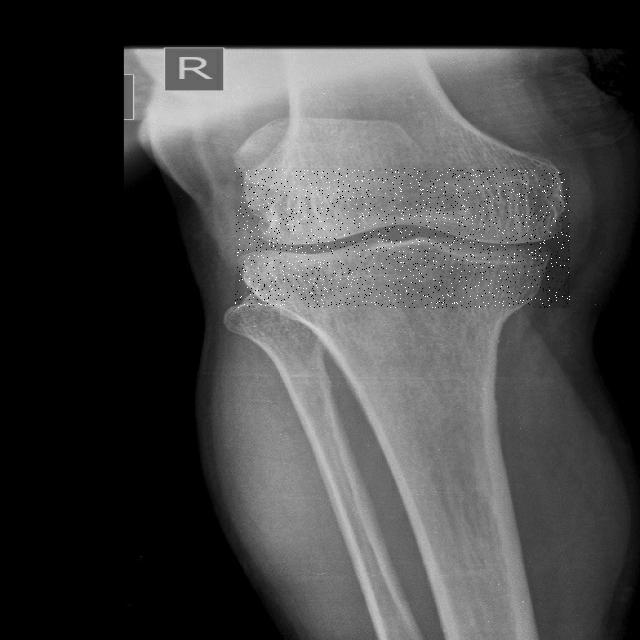normal: (235, 168, 570, 308)
